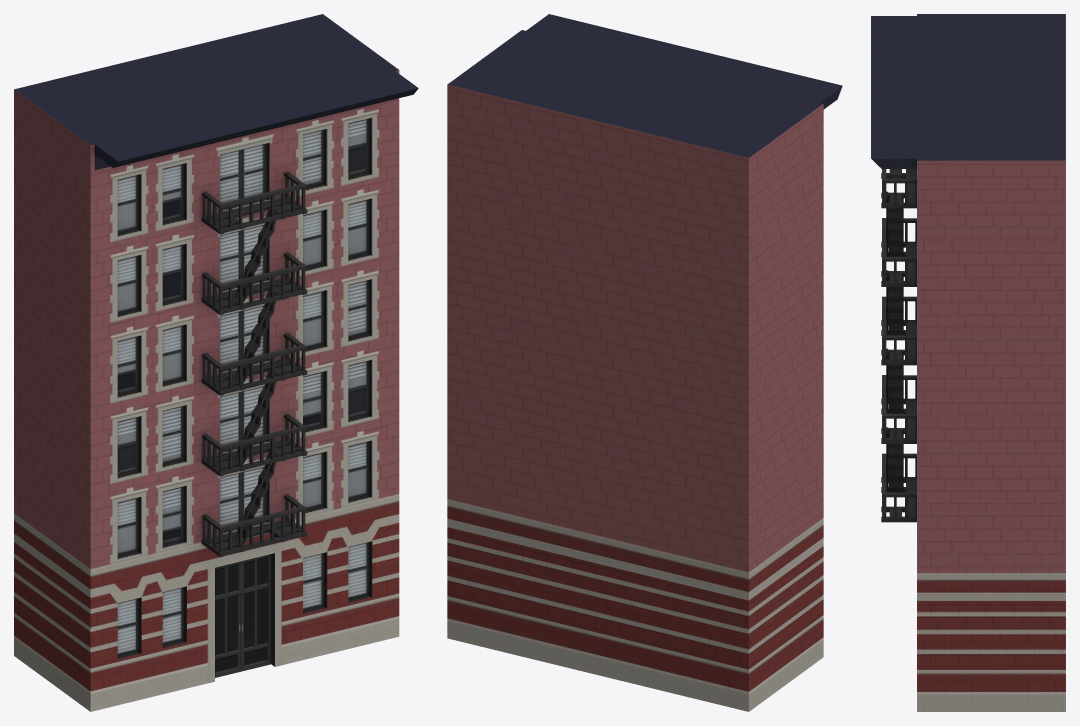
Rendered from 01lqee-dZAr.glb.
3 renders of one model, left to right at view 1: azimuth 30°, elevation 25°; view 2: azimuth 150°, elevation 25°; view 3: azimuth 270°, elevation 25°, orthographic. The views are drawn at different scales.
Visible parts, largest first — view 1: Apartment_mesh; view 2: Apartment_mesh; view 3: Apartment_mesh.
Boxes of the visible parts, left/top/right/bottom form: Apartment_mesh: left=14, top=14, right=418, bottom=711; Apartment_mesh: left=447, top=14, right=842, bottom=711; Apartment_mesh: left=871, top=14, right=1065, bottom=711.
Bounding box in the file's own units: 10.32 × 18.1 × 5.79.
Materials: 1 (1 with a texture image).
